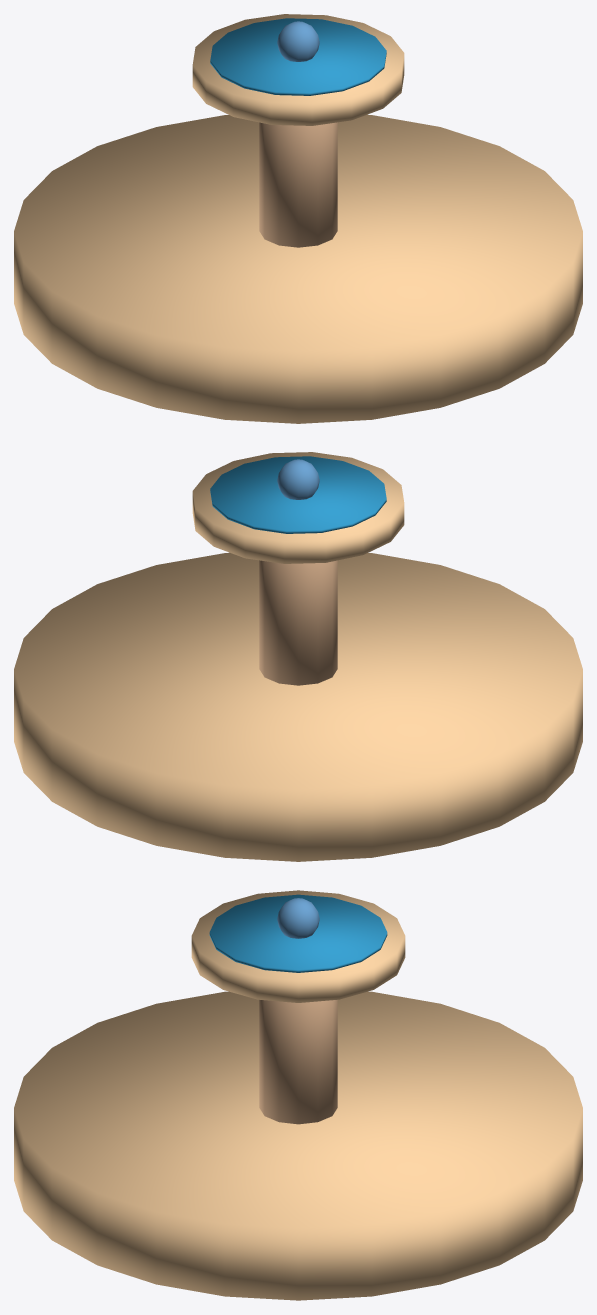
The model's file is fountain.glb.
3 renders of one model, top to bottom at view 1: azimuth 30°, elevation 25°; view 2: azimuth 150°, elevation 25°; view 3: azimuth 270°, elevation 25°, orthographic.
Parts seen in each view (by area): view 1: fountain, fountain_water_top, fountain_column, fountain_bowl, fountain_knob; view 2: fountain, fountain_water_top, fountain_column, fountain_bowl, fountain_knob; view 3: fountain, fountain_water_top, fountain_column, fountain_bowl, fountain_knob.
Part boxes in pixels (bbox=[...]): fountain: bbox=[14, 114, 582, 423]; fountain_water_top: bbox=[210, 18, 386, 95]; fountain_column: bbox=[259, 122, 337, 247]; fountain_bowl: bbox=[192, 14, 404, 125]; fountain_knob: bbox=[277, 21, 319, 61]; fountain: bbox=[14, 552, 582, 861]; fountain_water_top: bbox=[210, 456, 386, 533]; fountain_column: bbox=[259, 560, 337, 685]; fountain_bowl: bbox=[192, 452, 404, 563]; fountain_knob: bbox=[277, 459, 319, 499]; fountain: bbox=[14, 991, 582, 1300]; fountain_water_top: bbox=[209, 894, 387, 972]; fountain_column: bbox=[259, 1000, 337, 1124]; fountain_bowl: bbox=[191, 890, 405, 1002]; fountain_knob: bbox=[277, 898, 319, 938].
Bounding box in the file's own units: 3.2 × 1.74 × 3.2.
